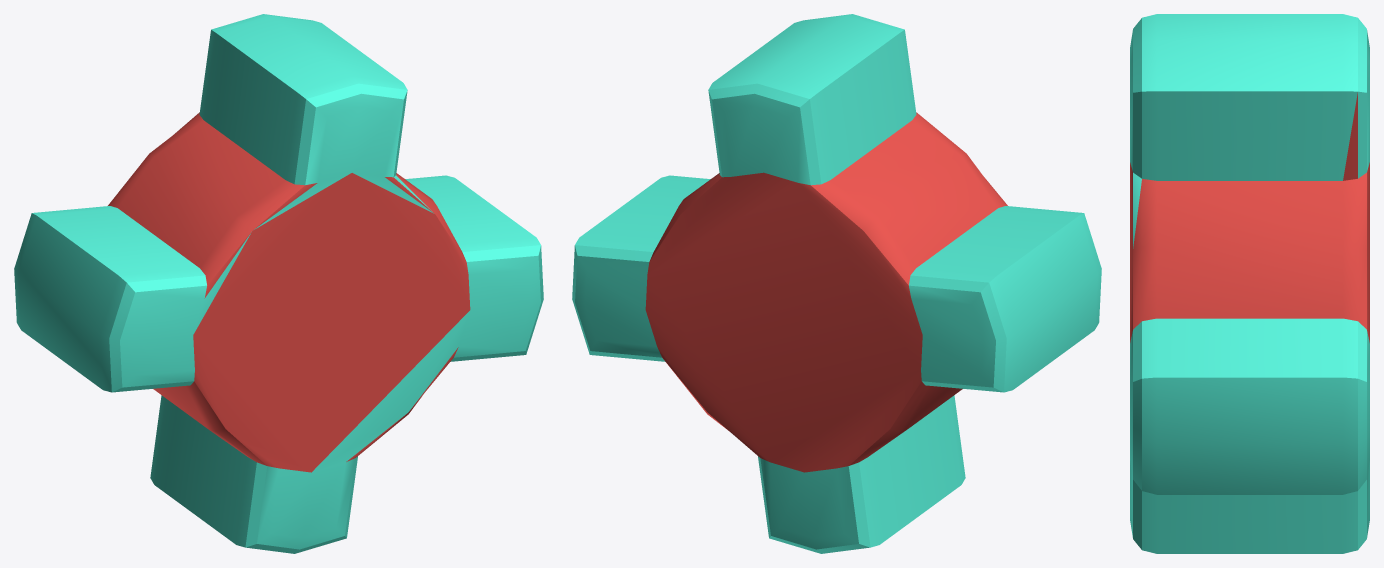
Rendered from roling_cross.fbx.
3 views of the same model, side by side, from view 1: azimuth 30°, elevation 25°; view 2: azimuth 150°, elevation 25°; view 3: azimuth 270°, elevation 25° (orthographic). The views are drawn at different scales.
Parts seen in each view (by area): view 1: wheel; view 2: wheel; view 3: wheel.
Boxes of the visible parts, left/top/right/bottom form: wheel: left=14, top=14, right=543, bottom=553; wheel: left=572, top=14, right=1101, bottom=553; wheel: left=1130, top=14, right=1369, bottom=553.
Bounding box in the file's own units: 30.68 × 30.68 × 12.78.
